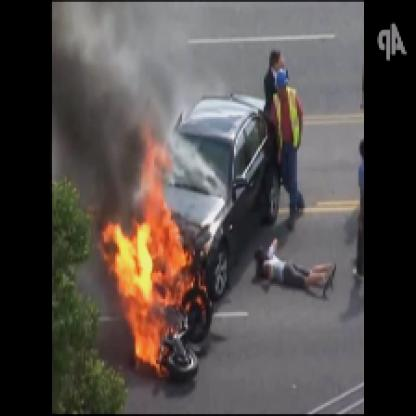Fire: (98, 132, 214, 379)
Smoke: (56, 15, 176, 169)
